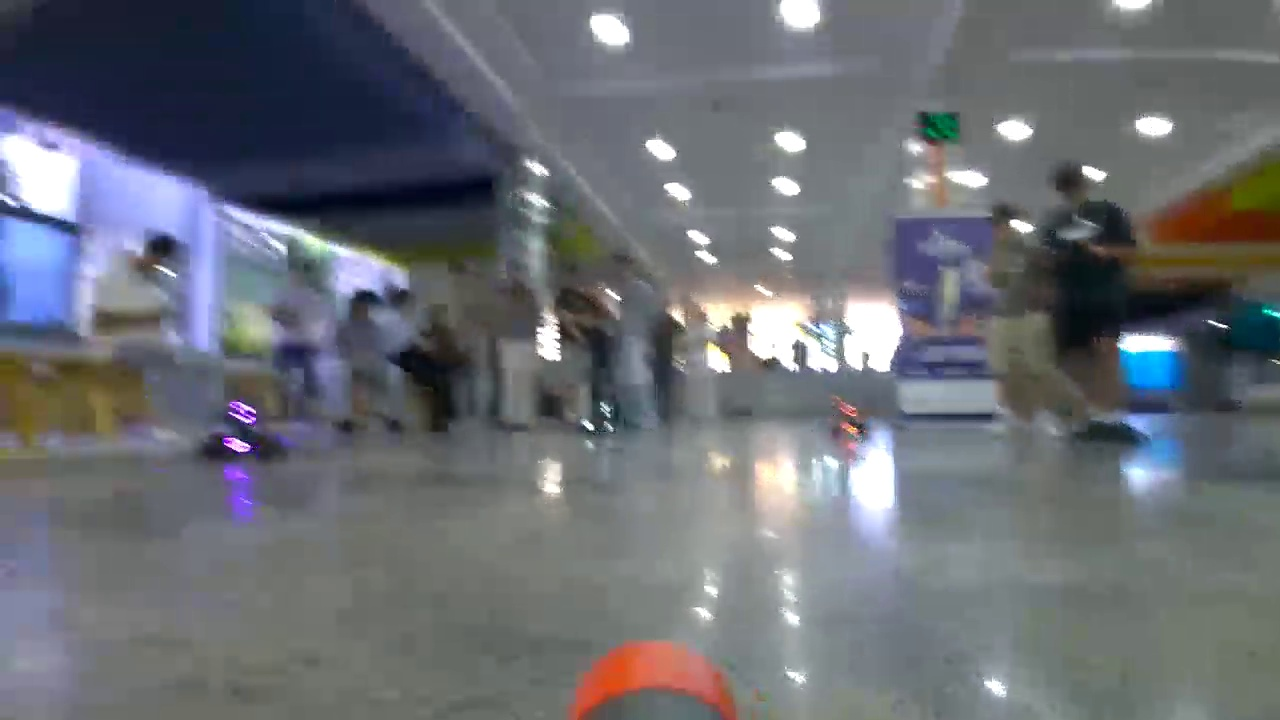robot: (200, 400, 285, 455), (580, 400, 624, 443), (831, 397, 866, 443)
